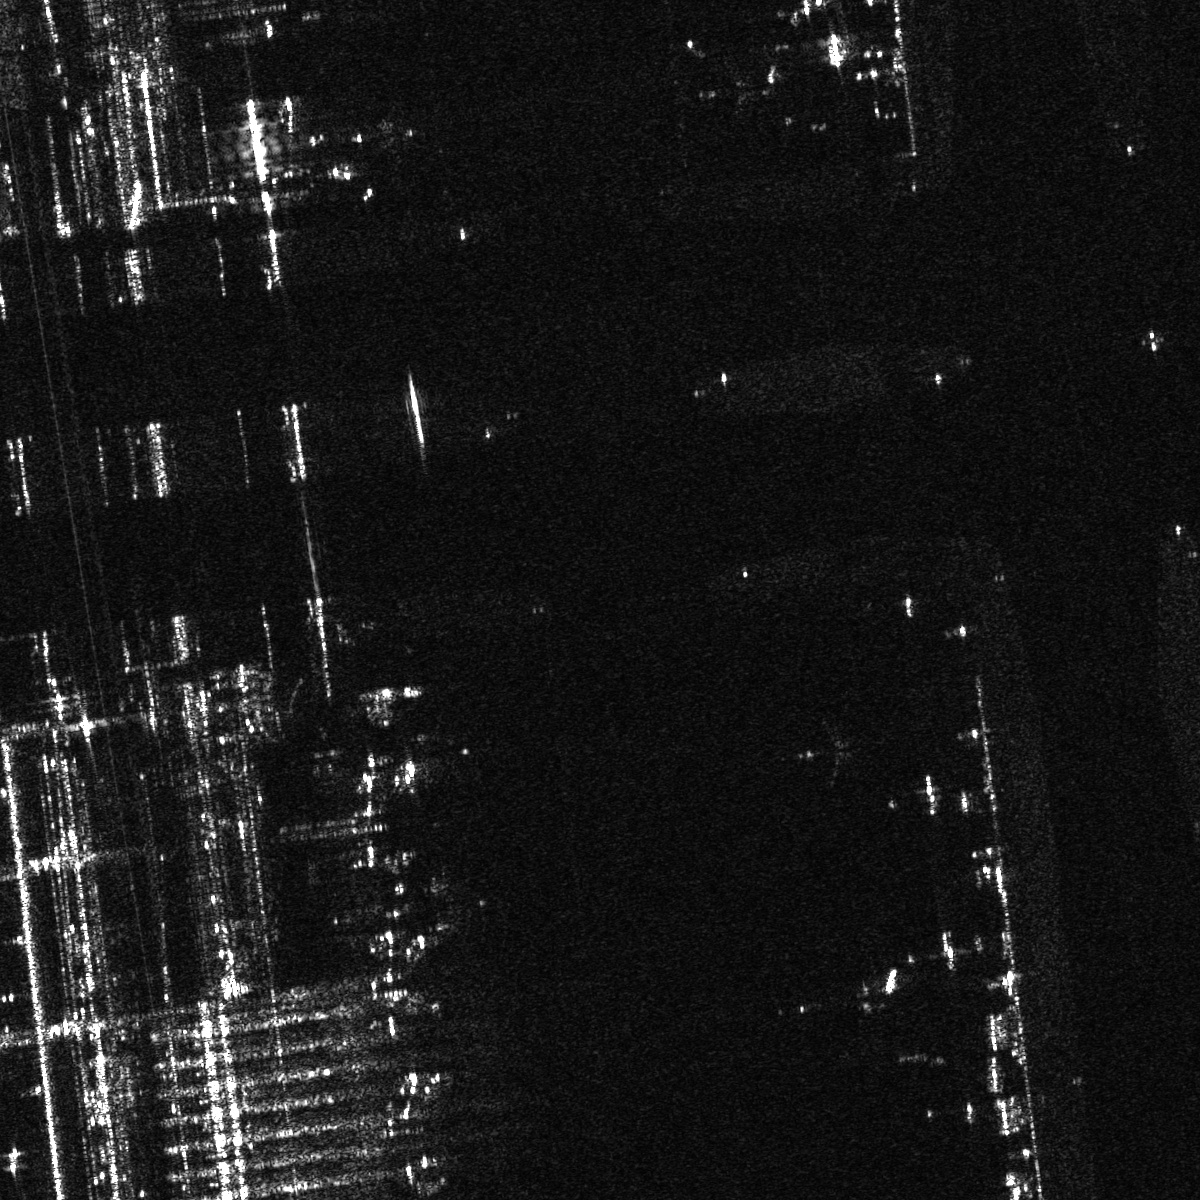Boeing737: (784, 713, 864, 795)
